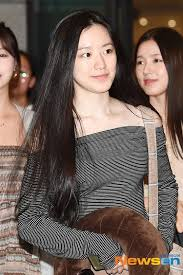people: (47, 10, 163, 275), (133, 28, 183, 275), (1, 22, 46, 275)
